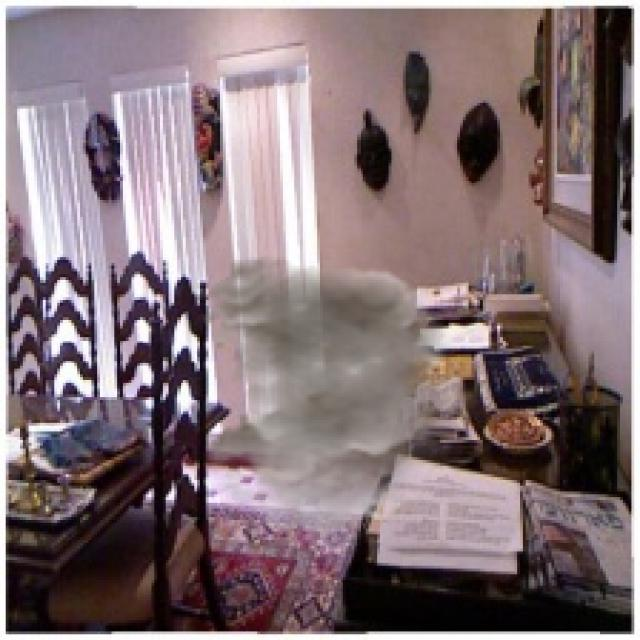smoke: (200, 255, 483, 534)
